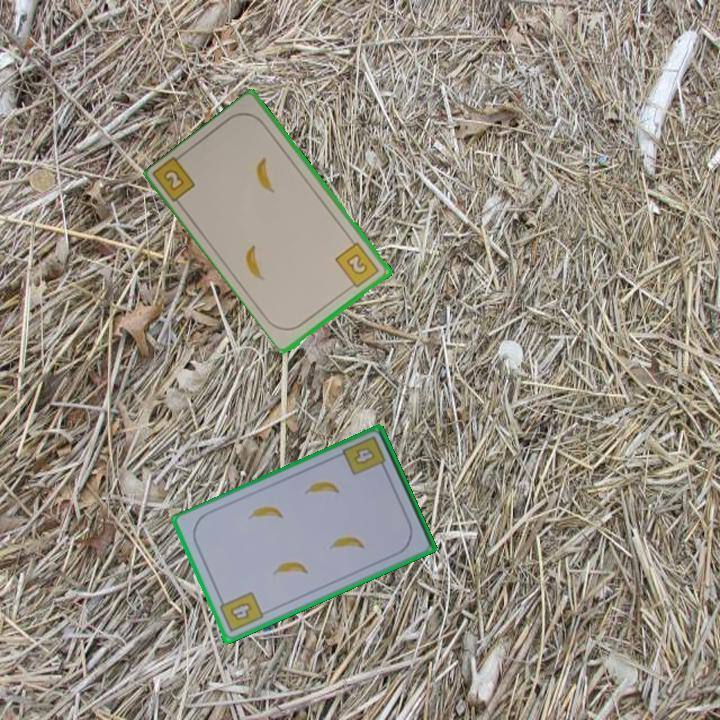2b: (332, 239, 382, 291), (160, 165, 188, 194)
4b: (215, 588, 266, 636), (350, 444, 378, 468)
